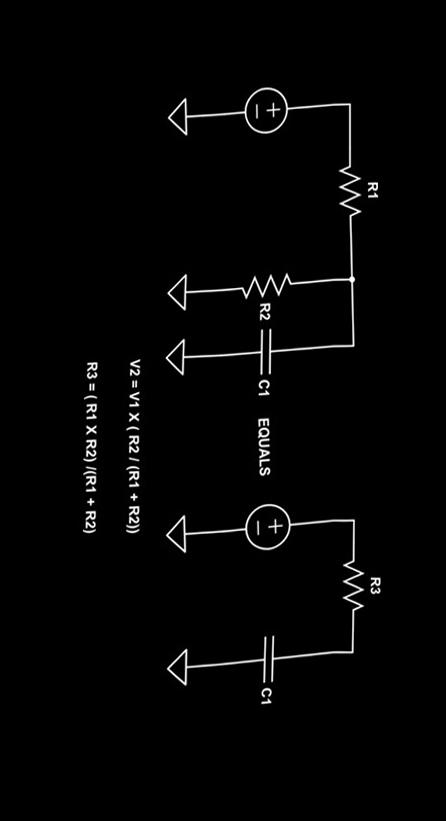Battery: (231, 67, 302, 144)
